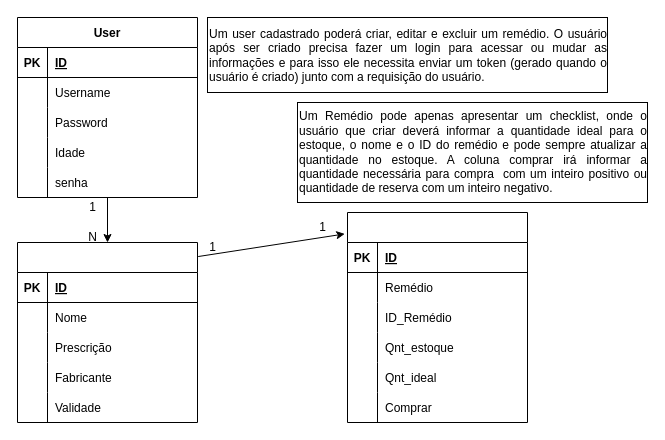
The diagram is 665 pixels wide and 440 high, and some of its shapes have lost their labels. The box of each missing label's shape, as (x1, y1, x2, y2) in pixels:
Checklist: (346, 212, 528, 422)
Medicine: (16, 242, 198, 422)
